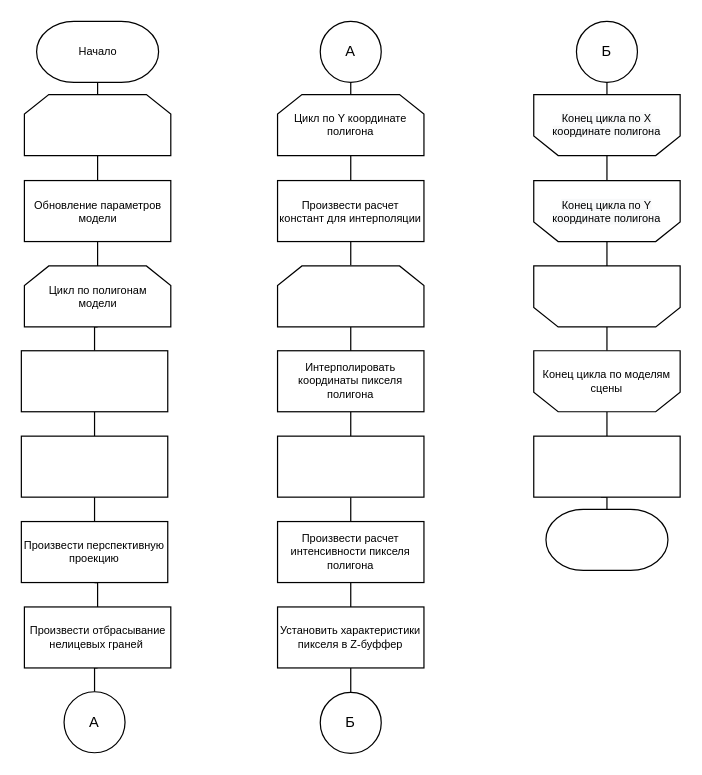
Image size: 702x775. Some labels were removed from this diagram. Each missing label, with the centre of its shape:
"Интерполировать вектор нормали пикселя полигона" belongs at pixel 350 466.
"Конец" belongs at pixel 606 539.
"Конец цикла по полигонам модели" belongs at pixel 606 296.
"Отрисовать буфер кадра" belongs at pixel 606 466.
"Привести полигон к пространству камеры" belongs at pixel 94 466.
"Применить к полигону аффинные преобразования" belongs at pixel 94 381.
"Цикл по X координате полигона" belongs at pixel 350 296.
"Цикл по моделям сцены" belongs at pixel 97 124.
